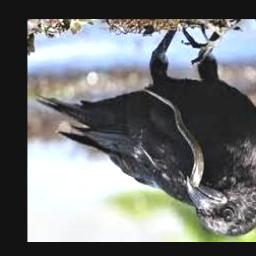Crow: (34, 28, 256, 237)
